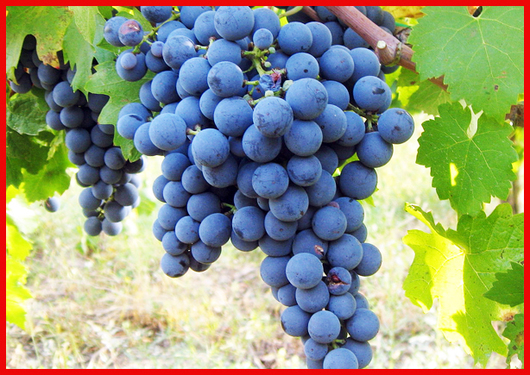Black grapes: (108, 15, 444, 375)
